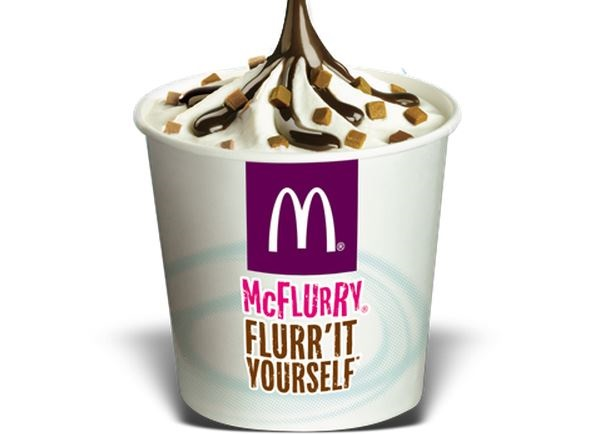mcdonalds: (254, 183, 342, 263)
